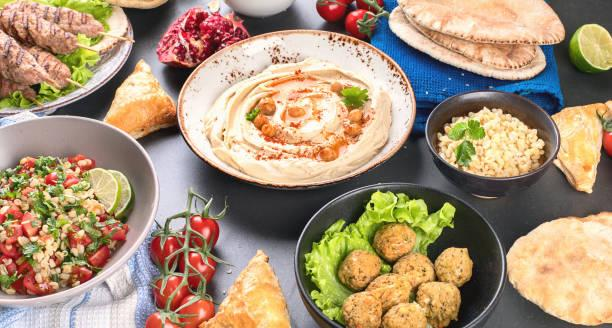Braised Crucian Carp: (176, 28, 410, 191), (1, 116, 160, 308), (293, 182, 501, 328), (0, 0, 134, 117), (425, 89, 559, 200)
